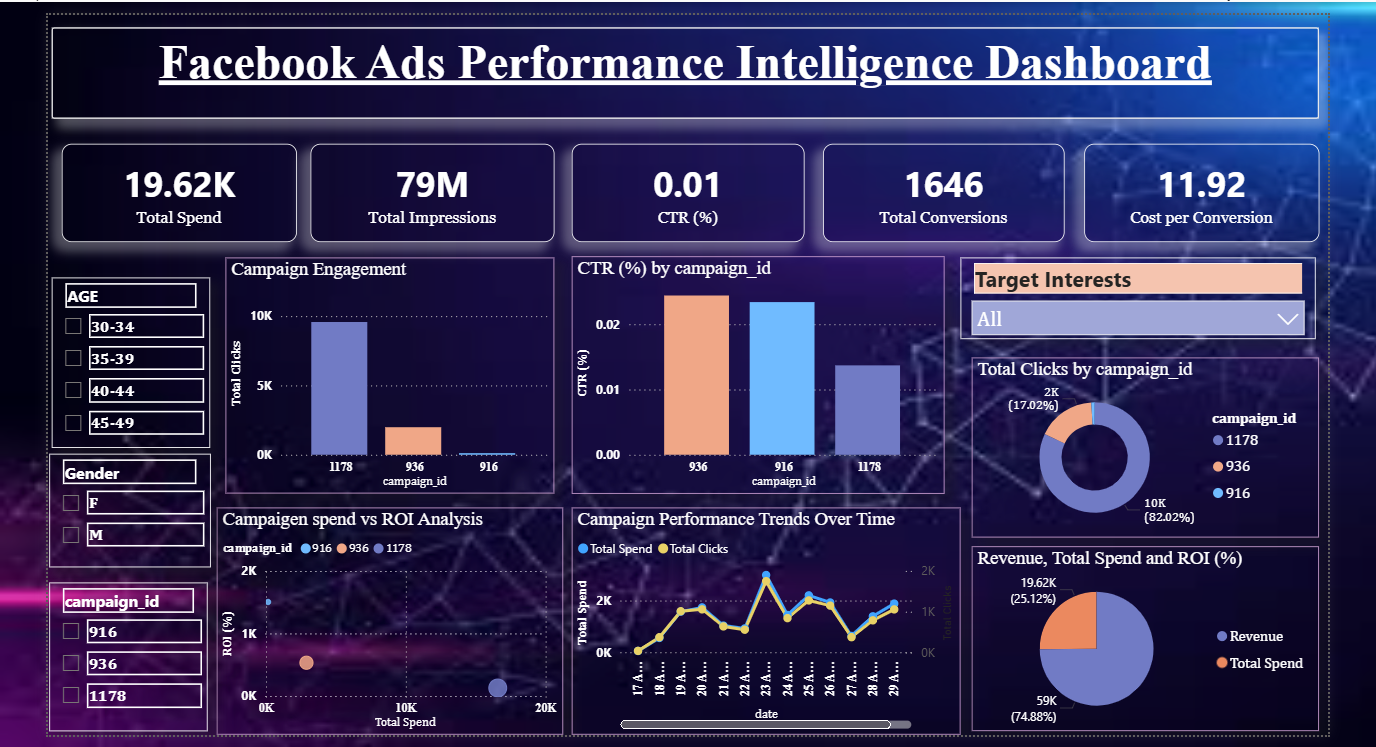

This screenshot's page, from the dashboard's own definition file:
{"tool":"powerbi","page":{"name":"Page 1","canvas":[1280,720],"ordinal":0},"visuals":[{"type":"textbox","box":[3.8,12.5,1267.5,91.2],"z":0},{"type":"card","fields":{"Values":["Dataset.Total Spend"]},"box":[13.8,128.8,235,98.8],"z":1000},{"type":"card","fields":{"Values":["Dataset.Total Impressions"]},"box":[262.5,128.8,243.8,98.8],"z":2000},{"type":"card","fields":{"Values":["Dataset.CTR (%)"]},"box":[523.8,128.8,232.5,98.8],"z":3000},{"type":"card","fields":{"Values":["Dataset.Total Conversions"]},"box":[775,128.8,241.2,98.8],"z":4000},{"type":"card","fields":{"Values":["Dataset.Cost per Conversion"]},"box":[1036.2,128.8,235,98.8],"z":5000},{"type":"clusteredColumnChart","title":"Campaign Engagement","fields":{"Category":["Dataset.campaign_id"],"Y":["Dataset.Total Clicks"]},"box":[177.5,242.5,328.8,236.2],"z":6000},{"type":"columnChart","fields":{"Y":["Dataset.CTR (%)"],"Category":["Dataset.campaign_id"]},"box":[523.8,241.2,372.5,237.5],"z":7000},{"type":"donutChart","fields":{"Category":["Dataset.campaign_id"],"Y":["Dataset.Total Clicks"]},"box":[923.8,342.5,347.5,180],"z":8000},{"type":"slicer","fields":{"Values":["Dataset.interest1"]},"box":[912.5,242.5,355,81.2],"z":9000},{"type":"scatterChart","title":"Campaigen spend vs ROI Analysis","fields":{"X":["Dataset.Total Spend"],"Y":["Dataset.ROI (%)"],"Series":["Dataset.campaign_id"],"Size":["Dataset.Total Conversions"]},"box":[168.8,492.5,346.2,227.5],"z":10000},{"type":"slicer","title":"Campaign Performance Trends Over Time","fields":{"Values":["Dataset.age"]},"box":[3.8,262.5,158.8,170],"z":11000},{"type":"pieChart","fields":{"Y":["Dataset.Revenue","Dataset.Total Spend"]},"box":[923.8,531.2,347.5,185],"z":12000},{"type":"lineChart","title":"Campaign Performance Trends Over Time","fields":{"Category":["DateTable.date"],"Y":["Dataset.Total Spend"],"Y2":["Dataset.Total Clicks"]},"box":[523.8,492.5,388.8,227.5],"z":13000},{"type":"slicer","fields":{"Values":["Dataset.gender"]},"box":[1.2,438.8,161.2,113.8],"z":14000},{"type":"slicer","fields":{"Values":["Dataset.campaign_id"]},"box":[1.2,567.5,158.8,148.8],"z":15000}]}

Visuals, with their boxes on the page's 1280x720 design canvas (x1, y1, x2, y2). These are canvas units, not pixel positions in the 1376x747 screenshot, which may show the page scaled, cropped or inside an application window:
textbox: 4, 12, 1271, 104
card - Dataset.Total Spend: 14, 129, 249, 228
card - Dataset.Total Impressions: 262, 129, 506, 228
card - Dataset.CTR (%): 524, 129, 756, 228
card - Dataset.Total Conversions: 775, 129, 1016, 228
card - Dataset.Cost per Conversion: 1036, 129, 1271, 228
"Campaign Engagement" clusteredColumnChart: 178, 242, 506, 479
columnChart - Dataset.CTR (%) x Dataset.campaign_id: 524, 241, 896, 479
donutChart - Dataset.campaign_id x Dataset.Total Clicks: 924, 342, 1271, 522
slicer - Dataset.interest1: 912, 242, 1268, 324
"Campaigen spend vs ROI Analysis" scatterChart: 169, 492, 515, 720
"Campaign Performance Trends Over Time" slicer: 4, 262, 163, 432
pieChart - Dataset.Revenue x Dataset.Total Spend: 924, 531, 1271, 716
"Campaign Performance Trends Over Time" lineChart: 524, 492, 913, 720
slicer - Dataset.gender: 1, 439, 162, 553
slicer - Dataset.campaign_id: 1, 568, 160, 716
